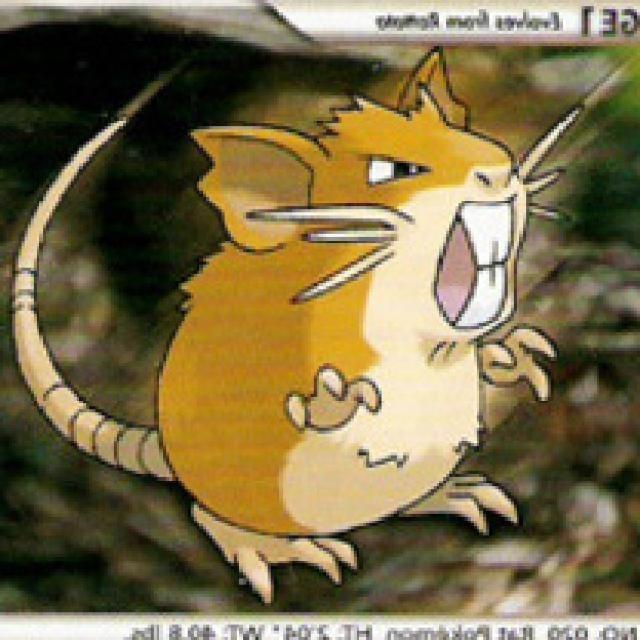Raticate: (106, 45, 560, 572)
